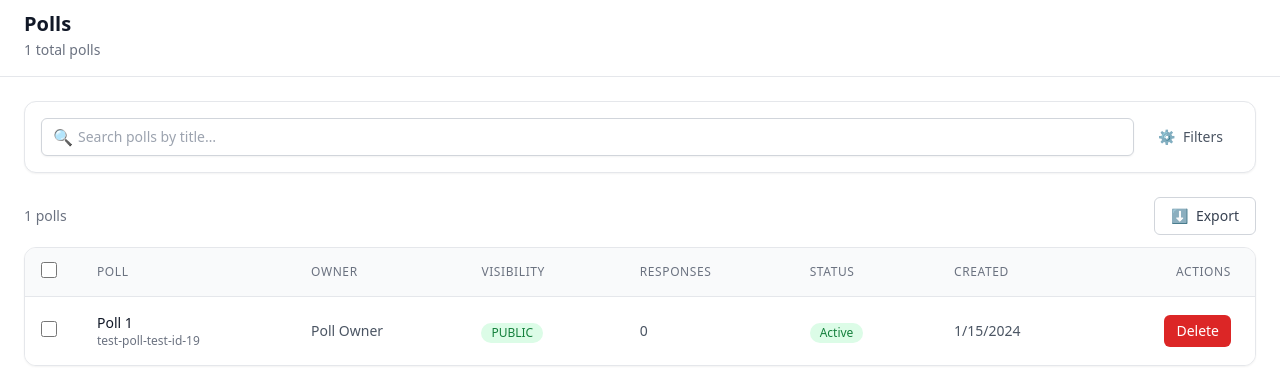
Test case: AdminPollsPage › shows confirmation dialog before deleting a poll
Expected: the table is shown, [25,248,1255,365]
Click the Delete button for the first poll
Click the button "Delete": click(1198, 331) [1164,315,1231,347]
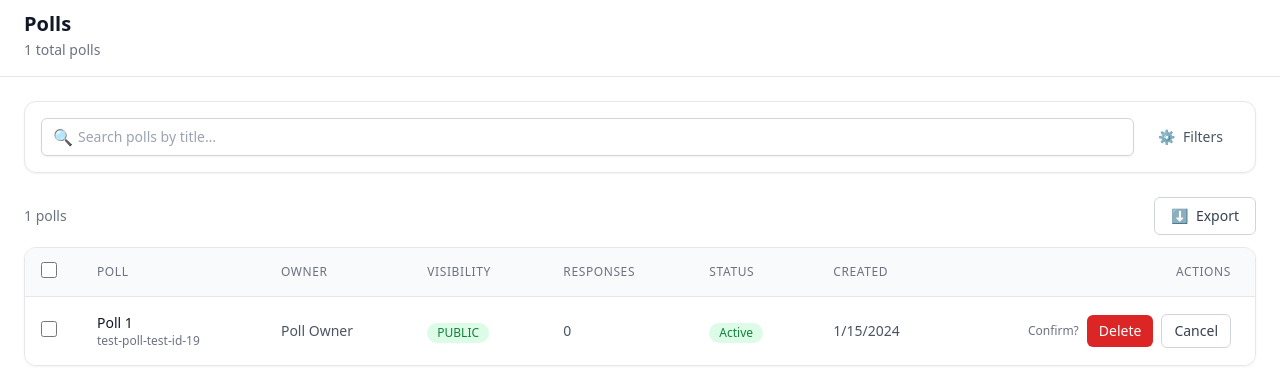
Now the text "Confirm?" is shown, box [1028,323,1079,339]
Now the button "Cancel" is shown, box [1161,314,1231,348]
